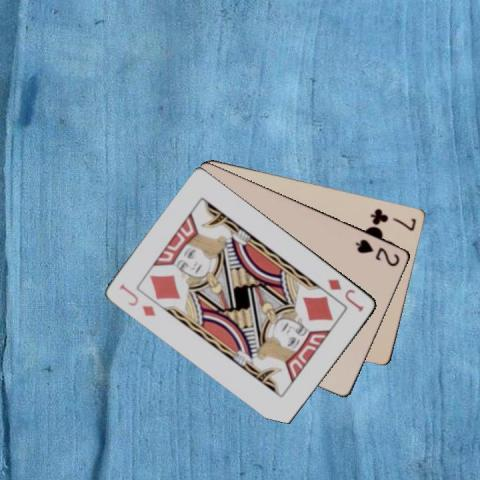2s: (353, 236, 401, 268)
7c: (367, 206, 418, 232)
Jd: (325, 275, 366, 314), (117, 281, 158, 318)
